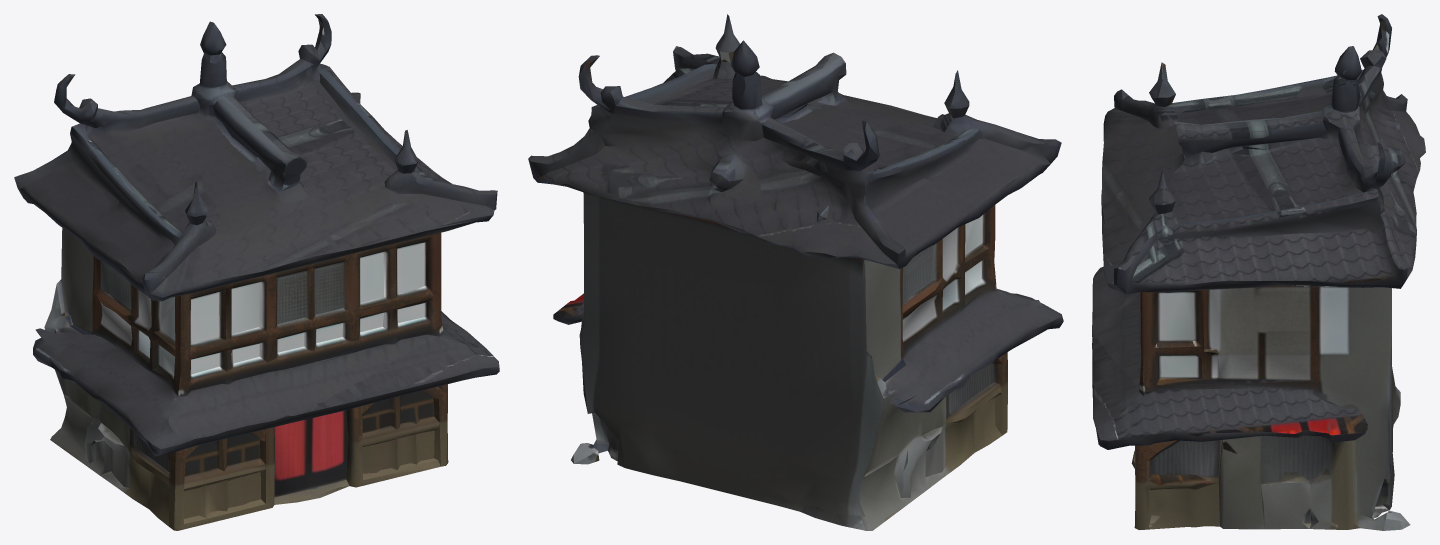
The model's file is ayutthaya_barrio_japones.glb.
3 views of the same model, side by side, from view 1: azimuth 30°, elevation 25°; view 2: azimuth 150°, elevation 25°; view 3: azimuth 270°, elevation 25° (orthographic). The views are drawn at different scales.
Parts seen in each view (by area): view 1: geometry_0; view 2: geometry_0; view 3: geometry_0.
Boxes of the visible parts, box(x1,y1,x2,y2) form: geometry_0: box(14, 14, 499, 530); geometry_0: box(528, 14, 1063, 530); geometry_0: box(1092, 14, 1425, 530).
Size of the model in its own units: 2.4 by 2.59 by 1.89.
Materials: 1 (1 with a texture image).
